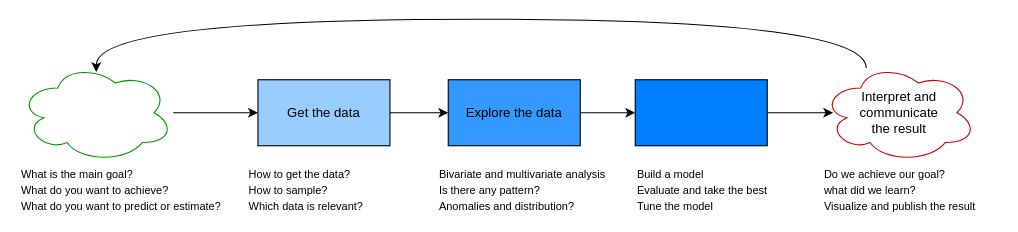
Image size: 1018x232. Some labels were removed from this diagram. Here are the shapes that lost their labels. From the top down, the centre of each, then its label:
(95,112): Ask an interesting question
(700,112): Model the data
